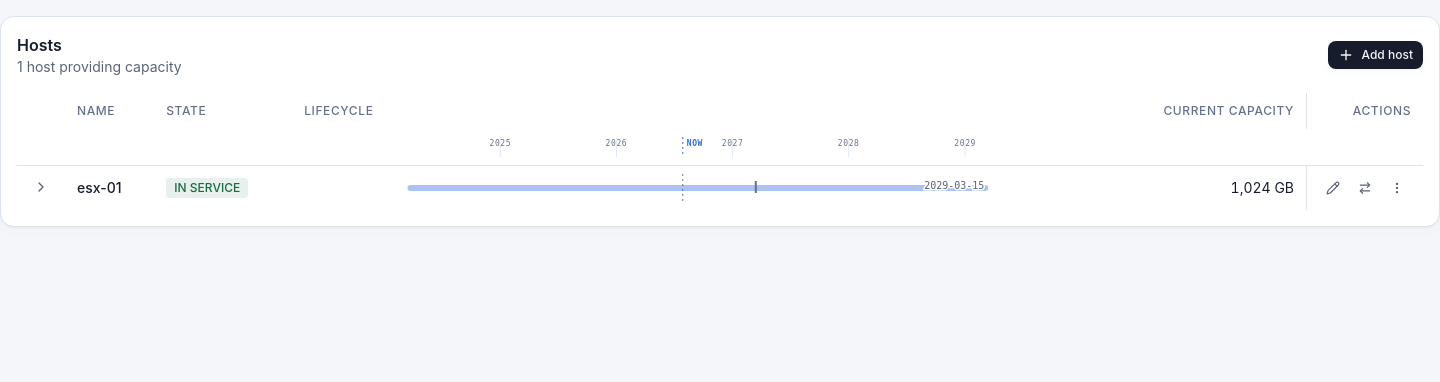
Test case: HostsTab › shows the full lifecycle dates in the expanded row content
Check: the text "esx-01" is shown, box [77,178,122,196]
Click the button named "Expand history": (41, 187) [29,175,53,199]
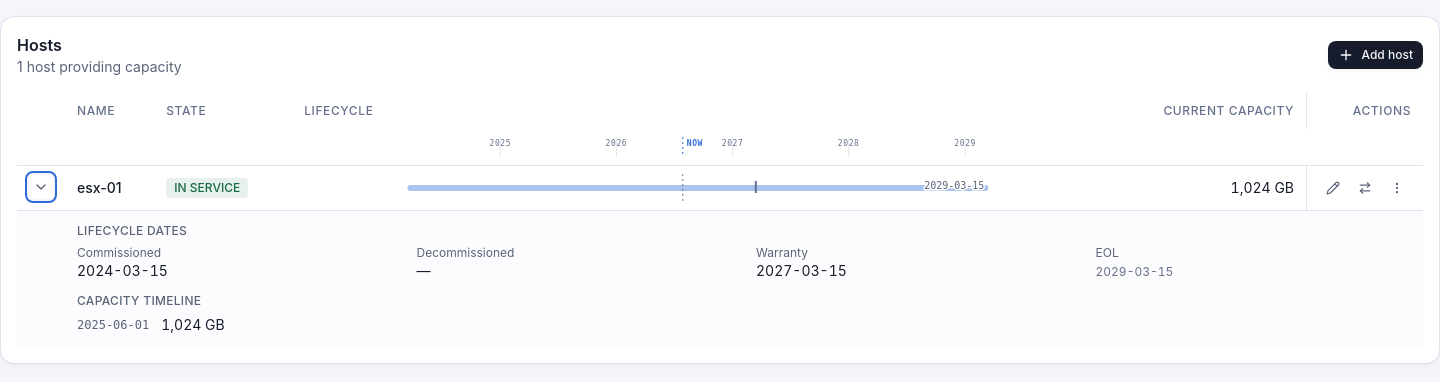
Check: the text "Lifecycle dates" is shown, box [77,222,187,238]
